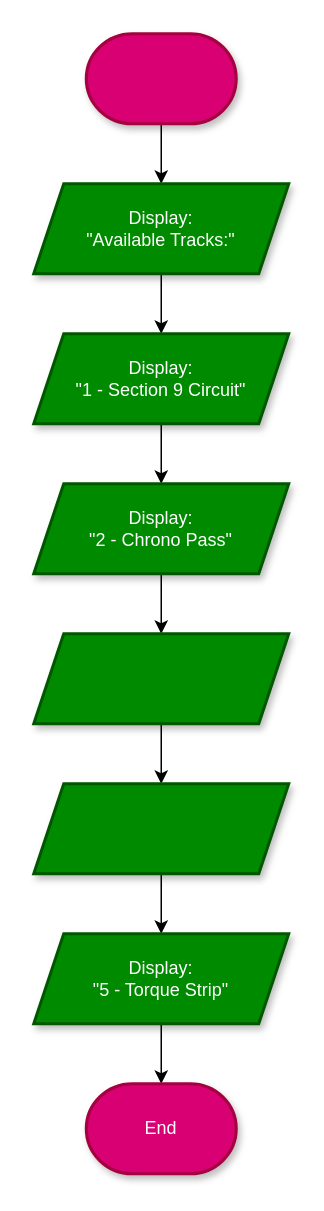
This 324x1211 diagram has some shape labels left out. Each missing label, with the centre of its shape:
Display: "3 - Rushline Dash": point 162,680
Display: "4 - Blackrock Circuit": point 162,830
displayTrackList(): point 162,80
